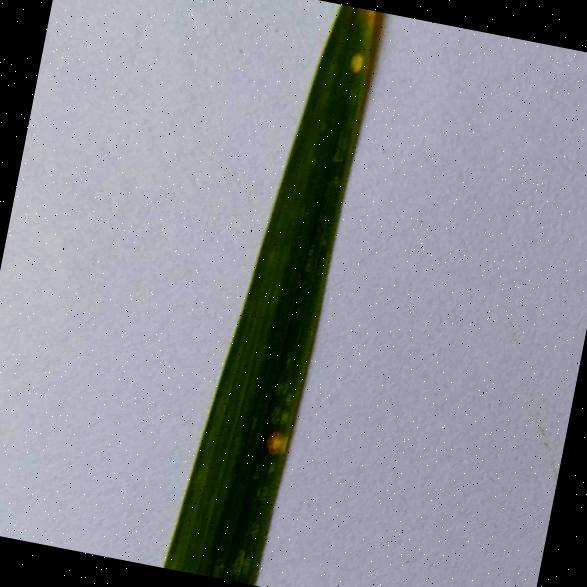Leaf_smut: (244, 408, 297, 460), (339, 42, 379, 82)
